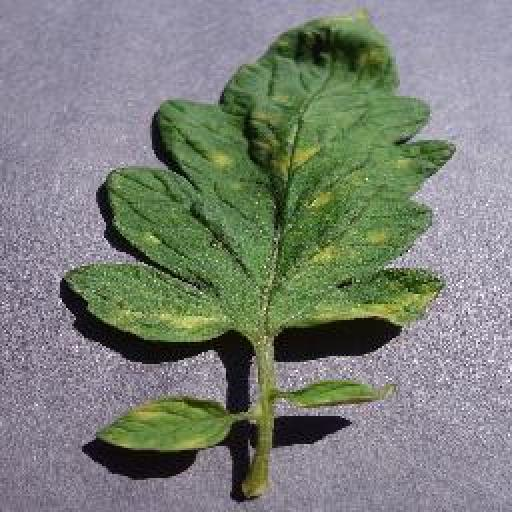Leaf Mold: (62, 8, 455, 343), (92, 395, 236, 452)
